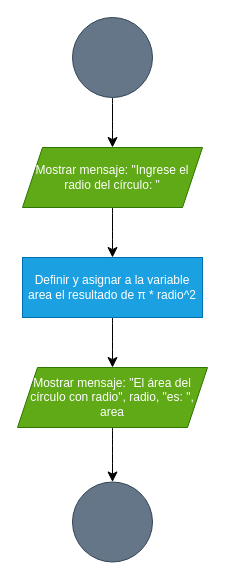
Image size: 225x580. Some labels were removed from this diagram. Each missing label, with the box of its shape:
Fin: (72, 481, 152, 562)
Inicio: (72, 16, 152, 98)
